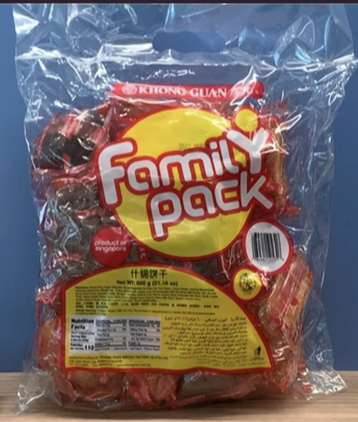cookies_600g-699g: (52, 84, 291, 367)
